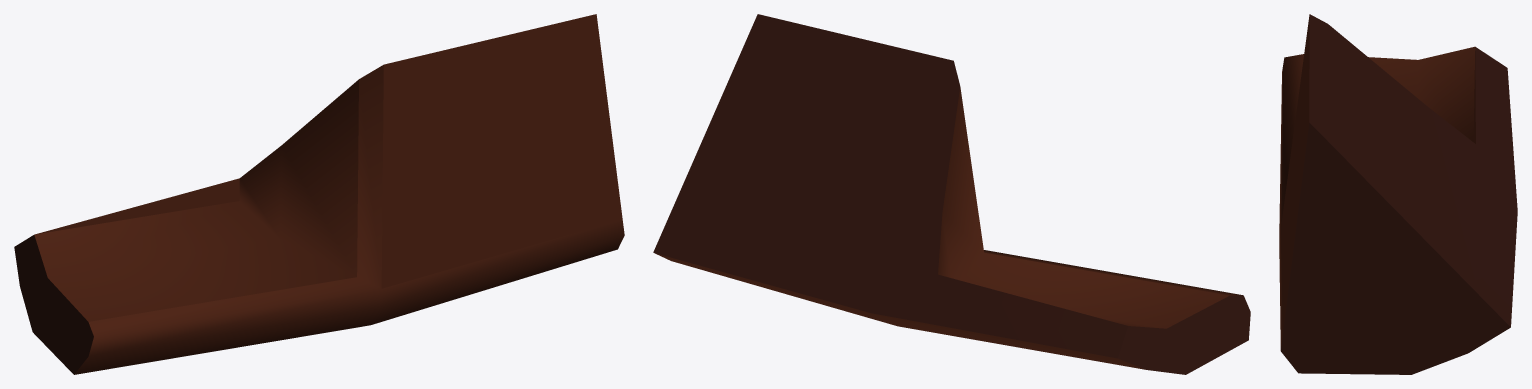
Rendered from BateauPart_Part_1.fbx.
The picture shows the model from 3 angles, left to right: view 1: azimuth 30°, elevation 25°; view 2: azimuth 150°, elevation 25°; view 3: azimuth 270°, elevation 25°; orthographic projection. The views are drawn at different scales.
Parts seen in each view (by area): view 1: BateauPart_Part_1; view 2: BateauPart_Part_1; view 3: BateauPart_Part_1.
Boxes of the visible parts, x1,y1,x2,y2 form: BateauPart_Part_1: (14, 14, 624, 374); BateauPart_Part_1: (653, 14, 1250, 374); BateauPart_Part_1: (1279, 14, 1517, 374).
Size of the model in its own units: 56.35 by 24.83 by 20.7.
